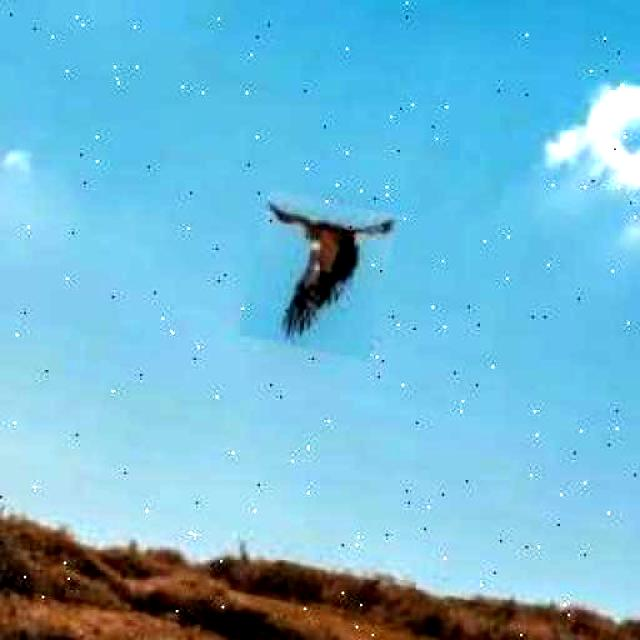airplane: (239, 190, 399, 362)
